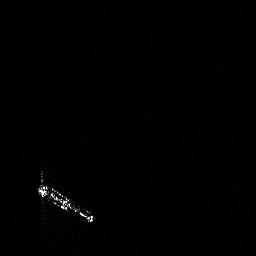ship: (36, 169, 95, 222)
